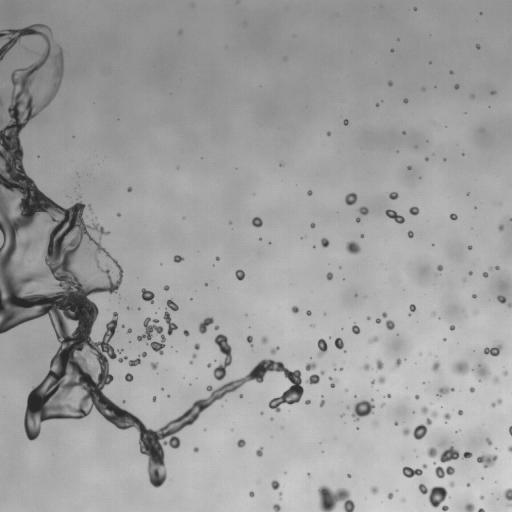droplet: (137, 317, 165, 354), (318, 485, 354, 511), (418, 483, 448, 511), (352, 399, 374, 421), (440, 446, 459, 462), (477, 453, 497, 468), (483, 343, 502, 356), (198, 317, 213, 333), (402, 466, 422, 478), (435, 466, 454, 478), (141, 288, 154, 303), (317, 338, 327, 356), (346, 241, 360, 253), (345, 193, 357, 205), (166, 299, 178, 311), (305, 374, 319, 384), (22, 238, 32, 250), (252, 217, 262, 227), (427, 447, 437, 457), (235, 269, 244, 280), (334, 338, 343, 349), (358, 206, 368, 215), (409, 206, 419, 215), (305, 362, 316, 370), (386, 320, 394, 330), (352, 323, 359, 334), (321, 238, 329, 247), (497, 295, 506, 303), (271, 480, 279, 489), (465, 503, 474, 511), (173, 255, 183, 262), (329, 377, 336, 387), (246, 335, 252, 346), (125, 373, 133, 381), (402, 427, 410, 435), (237, 439, 245, 447), (389, 192, 398, 199), (369, 336, 378, 343), (270, 347, 279, 354), (394, 358, 401, 367), (376, 360, 383, 369), (432, 362, 439, 371), (256, 447, 263, 456), (463, 451, 472, 458), (443, 413, 450, 421), (450, 213, 457, 220), (291, 306, 298, 313), (150, 362, 157, 369), (363, 363, 370, 370), (378, 376, 385, 383), (421, 406, 428, 413), (371, 487, 378, 494), (273, 504, 280, 511), (409, 304, 415, 312), (326, 272, 332, 279), (261, 336, 267, 343), (183, 330, 189, 336), (431, 411, 437, 417), (486, 438, 492, 444), (387, 493, 393, 499), (408, 230, 413, 237), (343, 119, 348, 125), (498, 224, 503, 230), (437, 265, 442, 271), (482, 272, 488, 277), (194, 343, 199, 349), (493, 377, 498, 383), (249, 491, 254, 497), (454, 84, 459, 89), (310, 223, 315, 228), (164, 285, 169, 290), (306, 310, 311, 315), (382, 312, 387, 317), (375, 318, 380, 323), (214, 325, 219, 330), (469, 387, 474, 392), (193, 447, 198, 452), (320, 400, 324, 406), (508, 445, 511, 452), (388, 81, 392, 86), (307, 190, 311, 195), (356, 217, 360, 222), (450, 325, 454, 330), (305, 400, 310, 404), (458, 410, 462, 415), (422, 464, 427, 468), (449, 482, 454, 486), (478, 508, 484, 511), (403, 98, 407, 102), (127, 187, 131, 191), (468, 271, 472, 275), (472, 294, 476, 298), (507, 303, 511, 307), (127, 329, 131, 333), (192, 354, 196, 358), (207, 363, 211, 367), (415, 395, 419, 399), (476, 44, 479, 48), (491, 91, 495, 94), (471, 94, 474, 98), (327, 131, 330, 135), (468, 245, 471, 249), (190, 360, 193, 364), (320, 371, 324, 374), (503, 371, 507, 374), (371, 380, 374, 384), (152, 397, 155, 401), (373, 421, 376, 425), (449, 71, 452, 74), (407, 166, 410, 169), (117, 213, 120, 216), (216, 257, 219, 260), (495, 266, 498, 269), (387, 394, 390, 397), (381, 403, 384, 406), (394, 422, 397, 425), (307, 473, 310, 476), (347, 474, 350, 477), (480, 496, 483, 499), (279, 492, 281, 496), (414, 7, 416, 10), (391, 49, 393, 52), (425, 158, 428, 160), (360, 235, 363, 237), (367, 316, 369, 319), (240, 394, 242, 397), (346, 406, 349, 408), (260, 412, 263, 414), (341, 414, 343, 417), (467, 483, 469, 486), (402, 499, 405, 501), (179, 31, 181, 33), (403, 131, 405, 133), (88, 206, 90, 208), (355, 294, 357, 296), (432, 313, 434, 315), (311, 324, 313, 326), (340, 368, 342, 370)
ligament: (0, 24, 301, 487), (451, 360, 491, 381), (213, 334, 231, 380), (412, 418, 431, 439), (164, 311, 177, 334), (385, 209, 404, 223), (128, 352, 146, 366), (438, 387, 454, 395), (504, 488, 511, 506), (491, 398, 502, 407), (118, 356, 127, 362), (35, 236, 43, 241), (509, 426, 511, 435), (510, 218, 511, 221)
